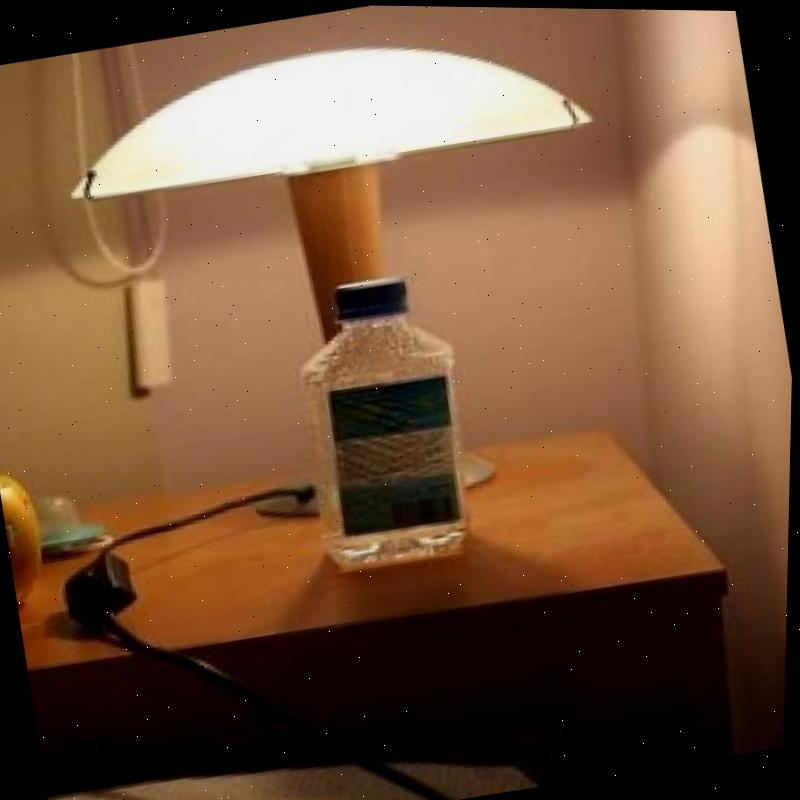botella: (286, 263, 495, 582)
